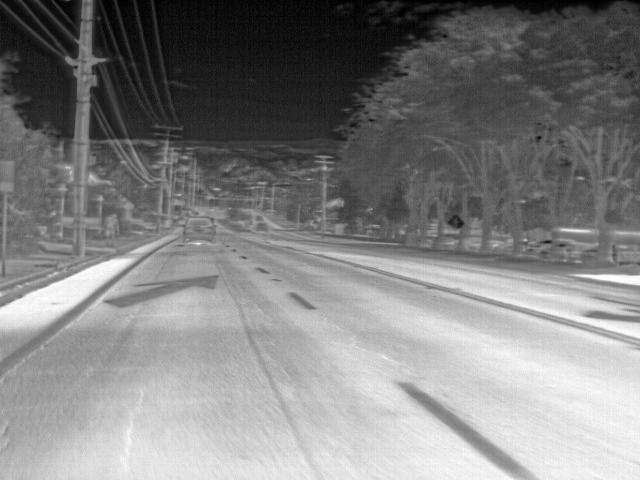car: (183, 216, 217, 244)
person: (105, 213, 121, 240)
